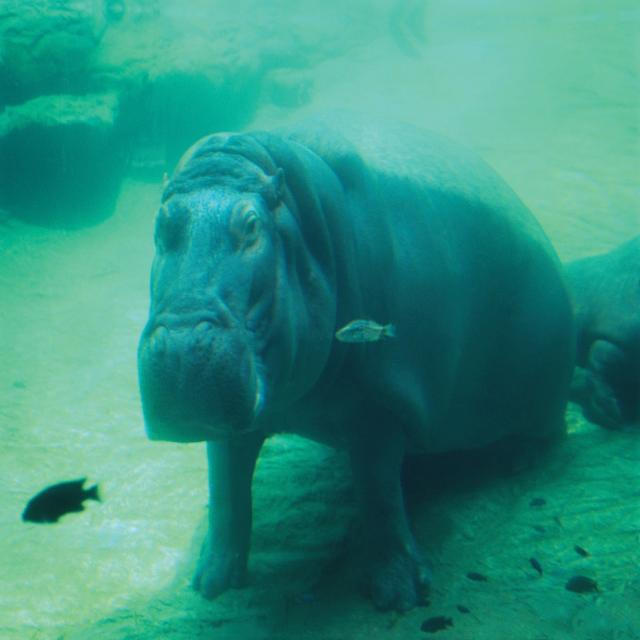Hippopotamus: (137, 128, 577, 585)
